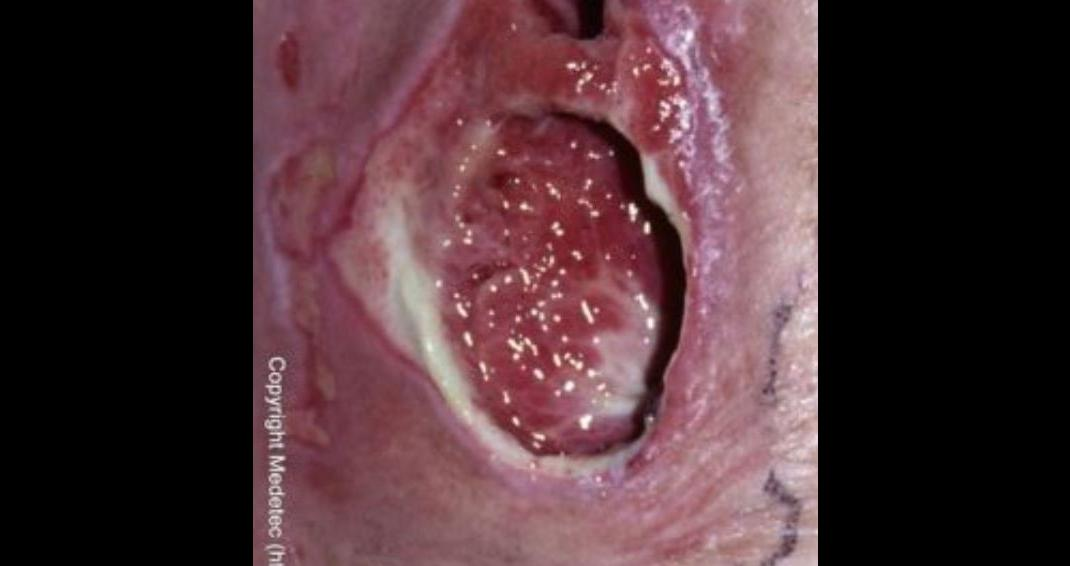Stage4: (392, 66, 695, 542)
